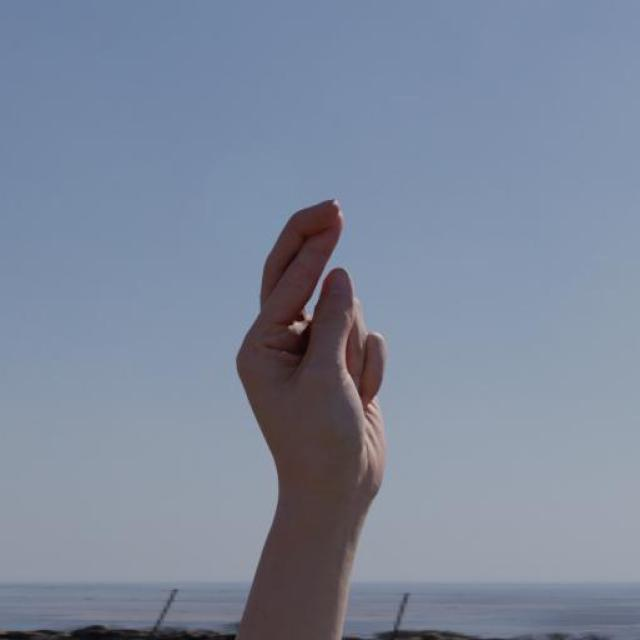R: (232, 192, 396, 510)
